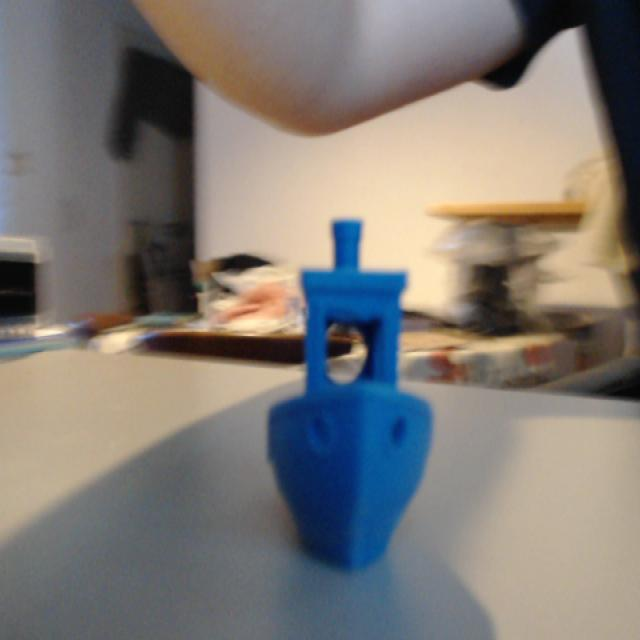benchy: (264, 213, 437, 571)
